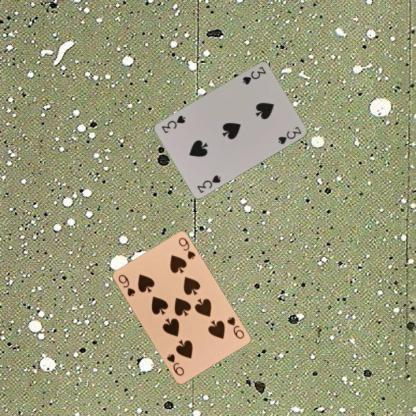3s: (194, 172, 222, 194), (240, 64, 267, 86)
9s: (114, 268, 138, 300), (224, 314, 246, 340)
